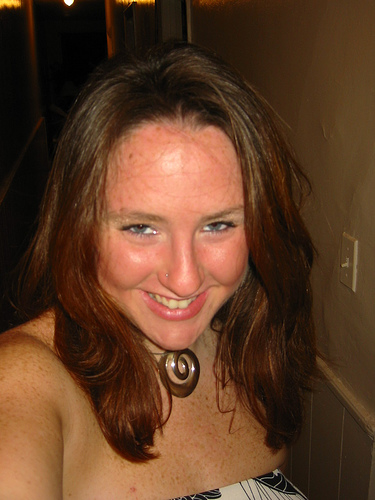without_mask: (87, 122, 255, 355)
